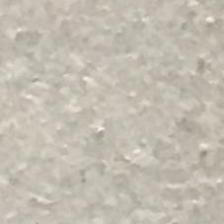Non_Crack: (43, 0, 224, 224)
